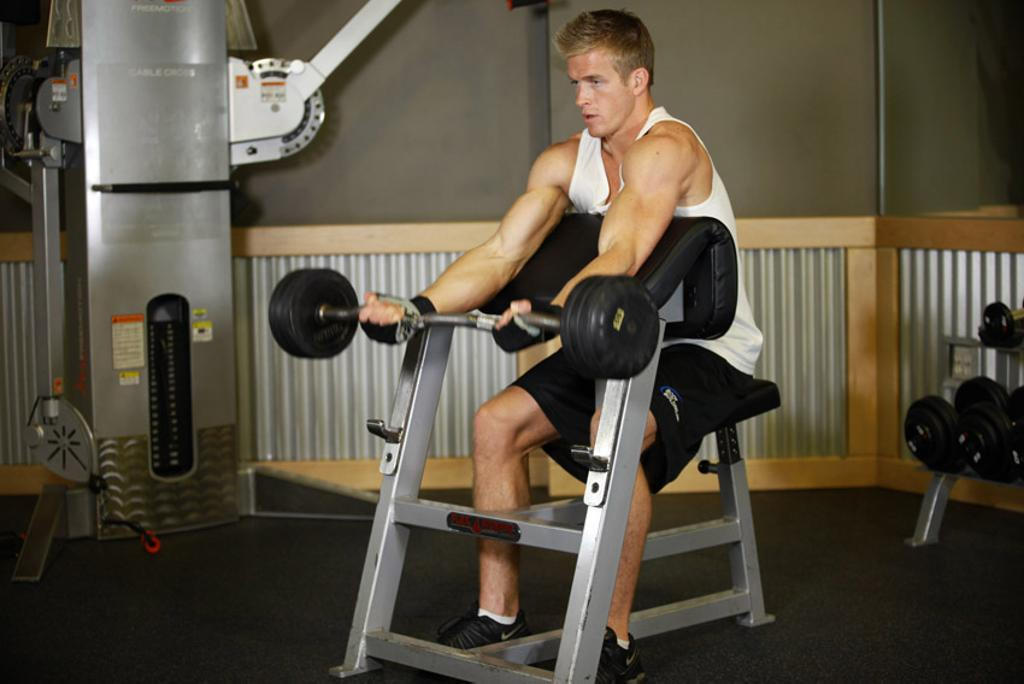face: (568, 42, 638, 144)
